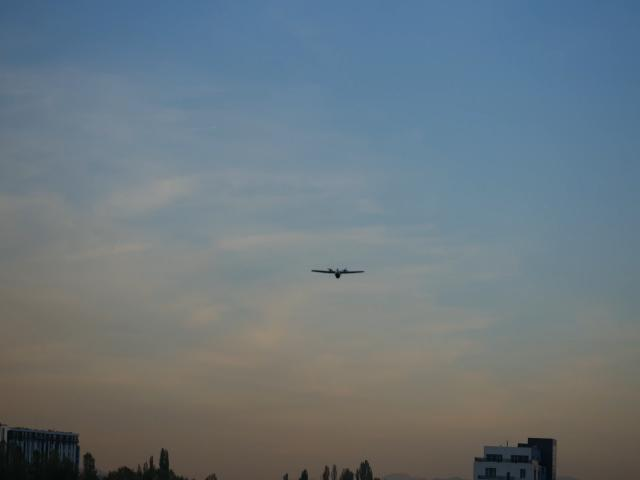plane: (310, 267, 366, 278)
